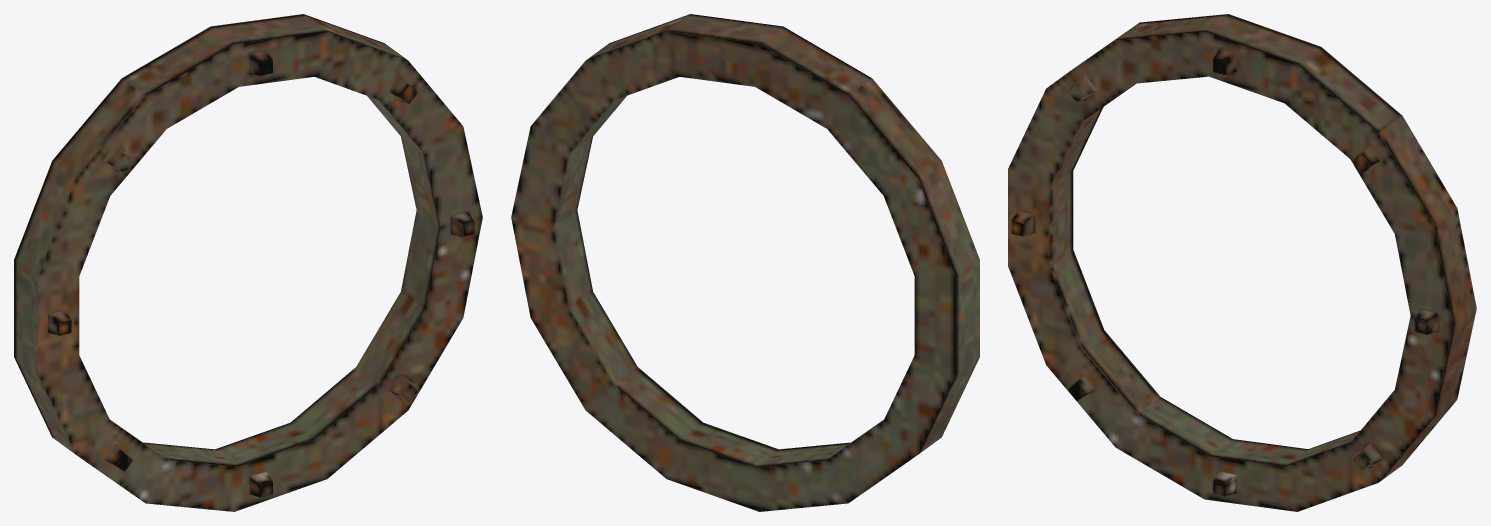
The model's file is Pipe_Set_3_4.glb.
3 views of the same model, side by side, from view 1: azimuth 30°, elevation 25°; view 2: azimuth 150°, elevation 25°; view 3: azimuth 330°, elevation 25° (orthographic).
Visible parts, largest first — view 1: Pipe_Set_3_4; view 2: Pipe_Set_3_4; view 3: Pipe_Set_3_4.
Part boxes in pixels (<box>): Pipe_Set_3_4: <box>14,14,482,511</box>; Pipe_Set_3_4: <box>511,14,979,511</box>; Pipe_Set_3_4: <box>1008,14,1476,511</box>.
Size of the model in its own units: 0.2686 by 0.2701 by 0.0344.
Materials: 1 (1 with a texture image).
